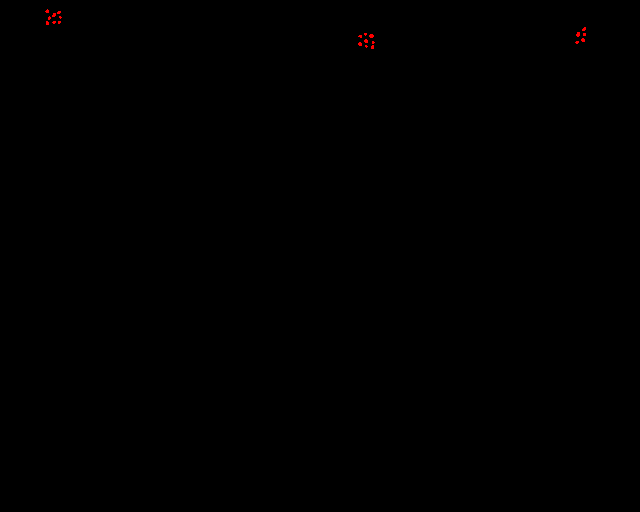Target: (576, 32, 580, 37), (369, 34, 374, 38), (45, 9, 49, 13), (52, 13, 56, 17), (582, 27, 586, 31), (581, 38, 585, 42), (364, 39, 368, 43), (358, 42, 362, 46), (57, 11, 61, 14), (48, 16, 51, 20), (46, 21, 49, 25), (52, 21, 56, 24), (358, 35, 362, 38), (575, 41, 579, 44), (371, 45, 374, 49), (59, 16, 62, 19), (58, 21, 61, 24), (364, 33, 367, 36), (583, 33, 586, 36), (372, 41, 375, 44), (365, 45, 368, 48)
